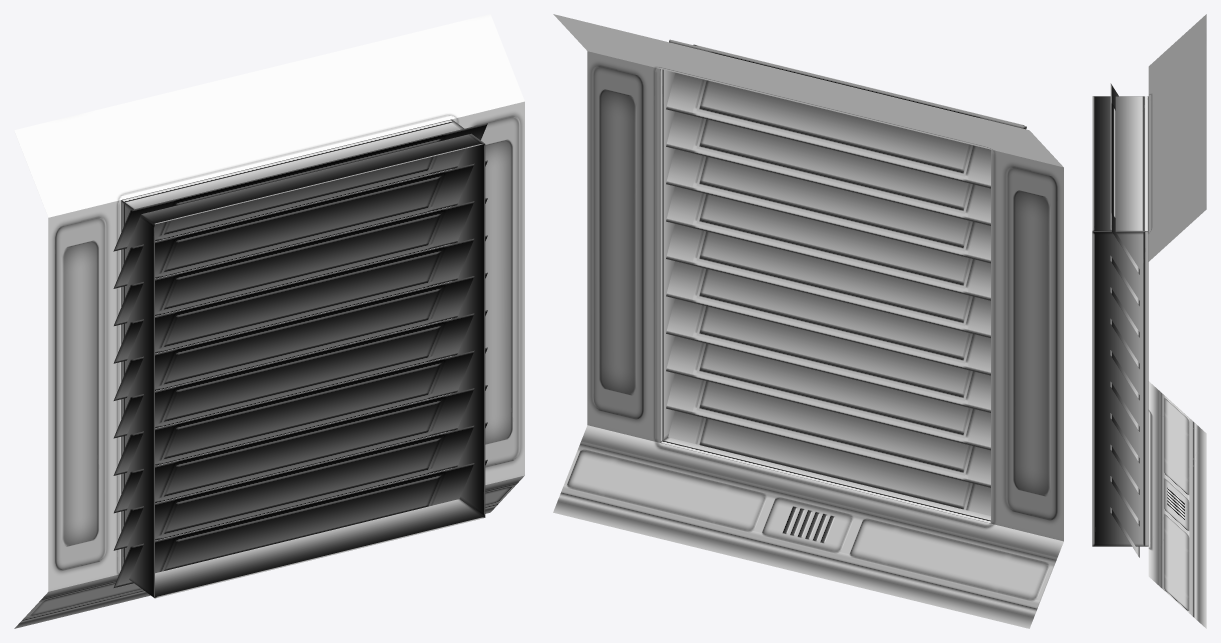
File: Sect_Wall_7_GrateB.FBX
3 views of the same model, side by side, from view 1: azimuth 30°, elevation 25°; view 2: azimuth 150°, elevation 25°; view 3: azimuth 270°, elevation 25° (orthographic). The views are drawn at different scales.
Visible parts, largest first — view 1: Wall_7_GrateB; view 2: Wall_7_GrateB; view 3: Wall_7_GrateB.
Part boxes in pixels (<box>): Wall_7_GrateB: <box>14,14,524,628</box>; Wall_7_GrateB: <box>553,14,1063,628</box>; Wall_7_GrateB: <box>1092,14,1206,628</box>.
Bounding box in the file's own units: 4 × 4 × 0.9861.
